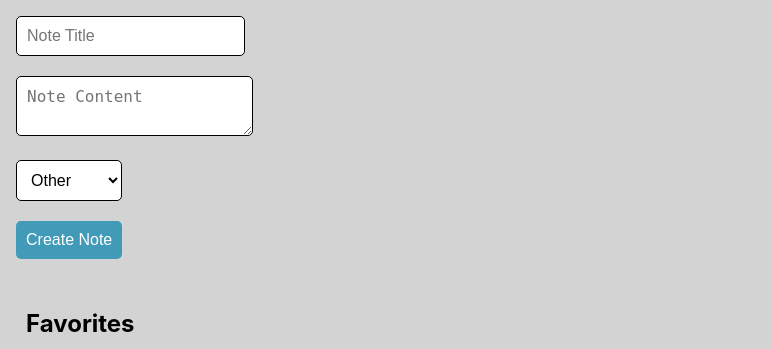
it: StickyNotes Component › creates multiple notes and displays them
This screenshot has width=771, height=349.
Note: Create first note
Type "First Note" into the field with placeholder "Note Title" at point(130, 36), box x1=16 y1=16 x2=245 y2=56
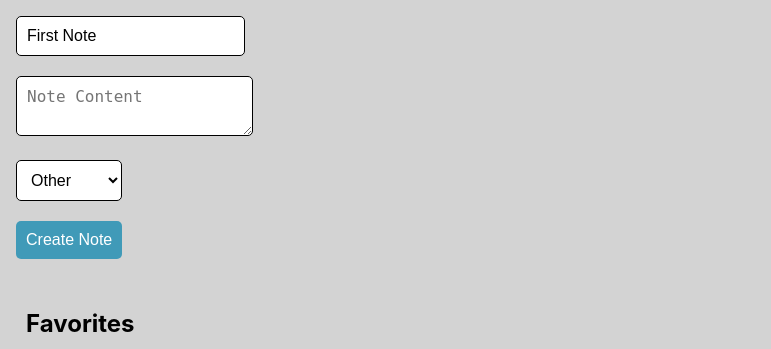
Type "First Content" into the text box with placeholder "Note Content" at point(134, 106), box x1=16 y1=76 x2=253 y2=136
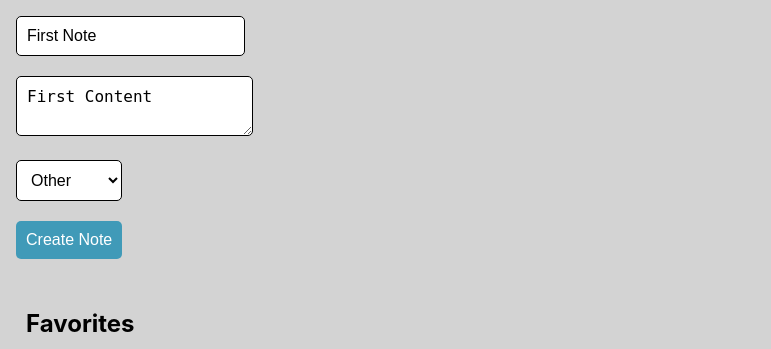
Click the button "Create Note" at point(69, 240), box x1=16 y1=221 x2=122 y2=259
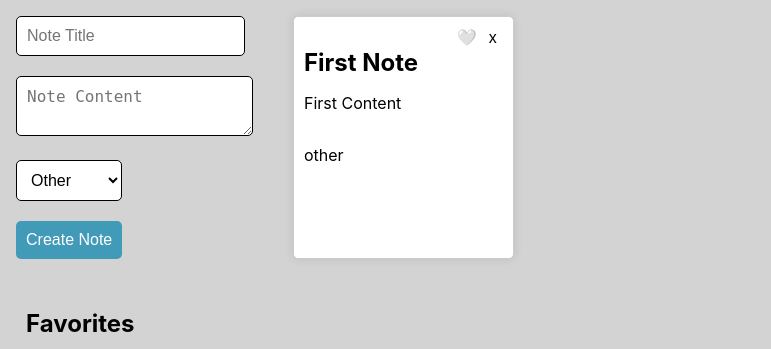
Note: Create second note
Type "Second Note" into the field with placeholder "Note Title" at point(130, 36), box x1=16 y1=16 x2=245 y2=56
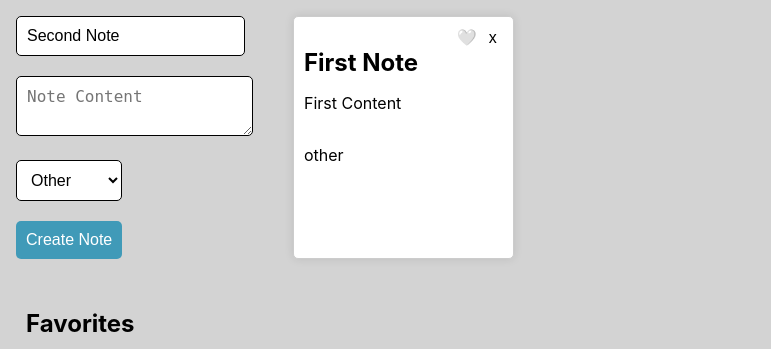
Type "Second Content" into the text box with placeholder "Note Content" at point(134, 106), box x1=16 y1=76 x2=253 y2=136
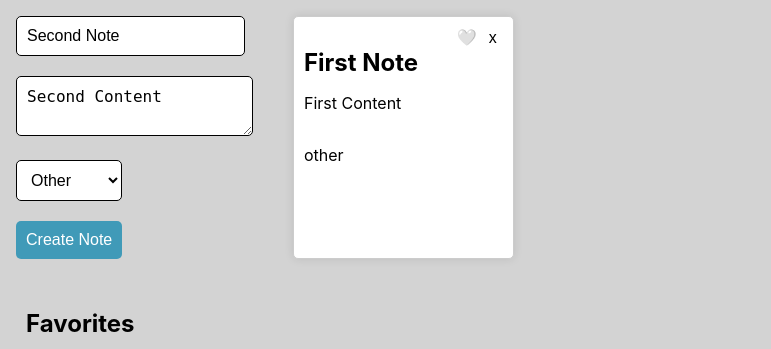
Click the button "Create Note" at point(69, 240), box x1=16 y1=221 x2=122 y2=259
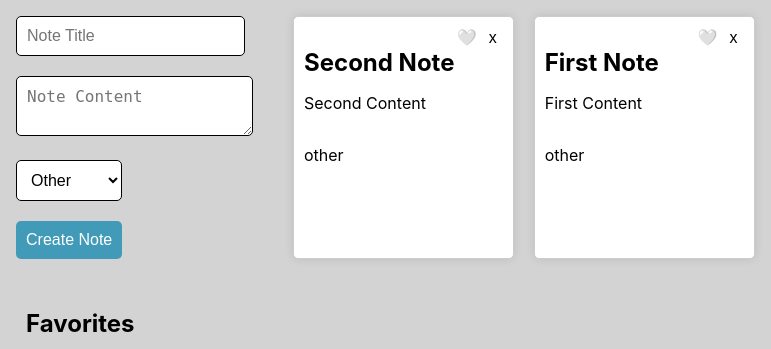
Expected: the heading "First Note" is shown, x1=545 y1=48 x2=659 y2=77
Expected: the text box "First Content" is shown, x1=545 y1=93 x2=642 y2=113
Expected: the heading "Second Note" is shown, x1=304 y1=48 x2=454 y2=77
